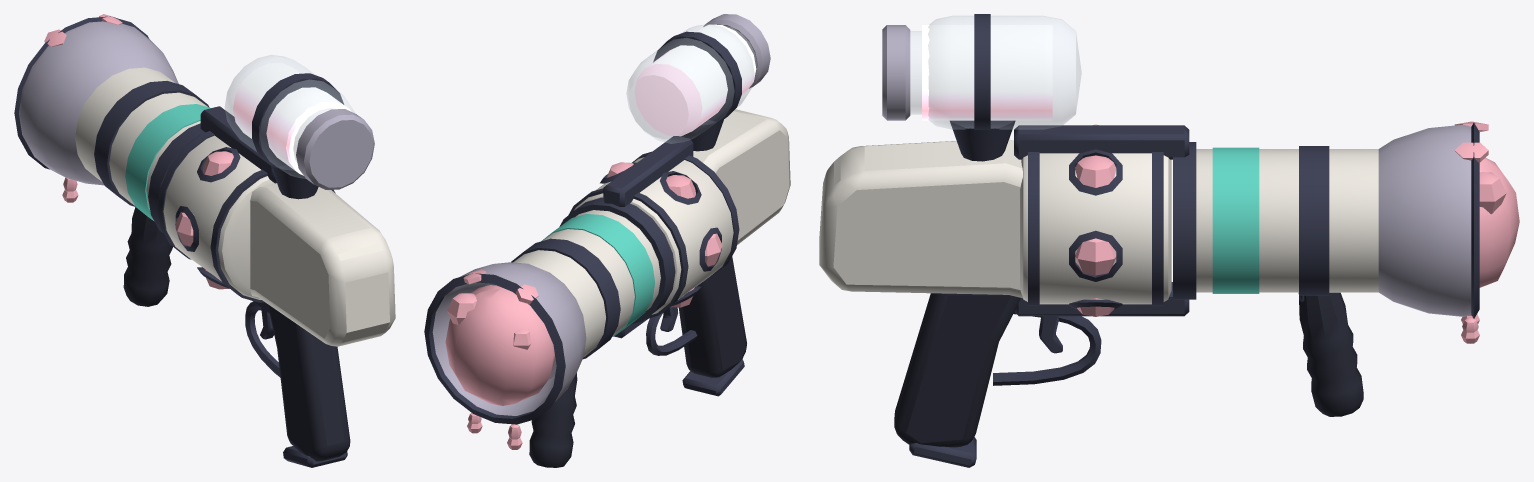
Rendered from weapon_blob_lobber.glb.
3 renders of one model, left to right at view 1: azimuth 30°, elevation 25°; view 2: azimuth 150°, elevation 25°; view 3: azimuth 270°, elevation 25°, orthographic. The views are drawn at different scales.
Parts seen in each view (by area): view 1: Receiver, Bowl, Grip, Drum, Hopper, Barrel, Fill, HopperLid, FrontHandle, SkinBand, HandleClamp, JarClamp (+11 smaller); view 2: Muzzle, Hopper, Fill, Receiver, Bowl, Barrel, Drum, Grip, BowlLip, SkinBand, FrontHandle, Strap0 (+12 smaller); view 3: Receiver, Bowl, Hopper, Drum, Barrel, Grip, Fill, SkinBand, FrontHandle, Strap0, HandleClamp, Muzzle (+13 smaller).
Part boxes in pixels (<box>): Receiver: <box>250,183,395,346</box>; Bowl: <box>19,21,178,185</box>; Grip: <box>267,304,350,461</box>; Drum: <box>163,135,274,299</box>; Hopper: <box>225,55,355,178</box>; Barrel: <box>75,67,207,208</box>; Fill: <box>233,62,351,175</box>; HopperLid: <box>296,109,374,189</box>; FrontHandle: <box>123,207,172,306</box>; SkinBand: <box>125,104,210,221</box>; HandleClamp: <box>94,81,209,206</box>; JarClamp: <box>252,73,344,168</box>; Muzzle: <box>445,285,555,405</box>; Hopper: <box>626,24,756,143</box>; Fill: <box>634,24,756,136</box>; Receiver: <box>693,109,790,244</box>; Bowl: <box>432,262,586,415</box>; Barrel: <box>513,210,660,356</box>; Drum: <box>574,157,733,314</box>; Grip: <box>678,256,746,377</box>; BowlLip: <box>424,273,565,424</box>; SkinBand: <box>541,214,654,336</box>; FrontHandle: <box>529,373,577,467</box>; Strap0: <box>603,136,693,206</box>; Receiver: <box>819,139,1022,298</box>; Bowl: <box>1378,124,1471,316</box>; Hopper: <box>910,16,1081,129</box>; Drum: <box>1020,153,1171,304</box>; Barrel: <box>1196,149,1378,292</box>; Grip: <box>894,293,1020,447</box>; Fill: <box>922,25,1052,120</box>; SkinBand: <box>1212,147,1259,293</box>; FrontHandle: <box>1298,292,1363,416</box>; Strap0: <box>1014,125,1189,159</box>; HandleClamp: <box>1299,146,1329,295</box>; Muzzle: <box>1479,157,1519,287</box>.
Size of the model in its own units: 0.17 by 0.4153 by 0.6002.
